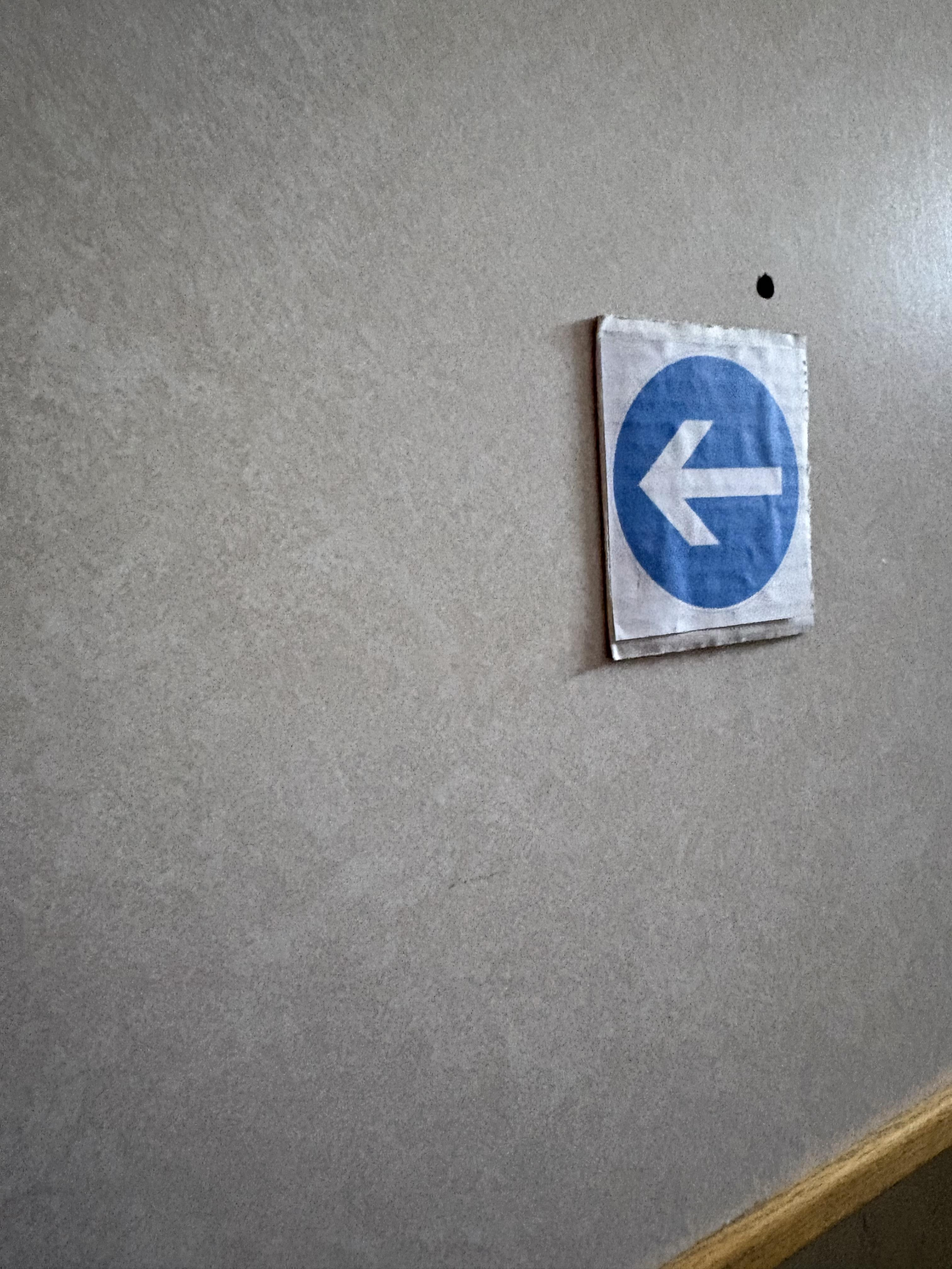Proceed Left: (592, 318, 825, 677)
